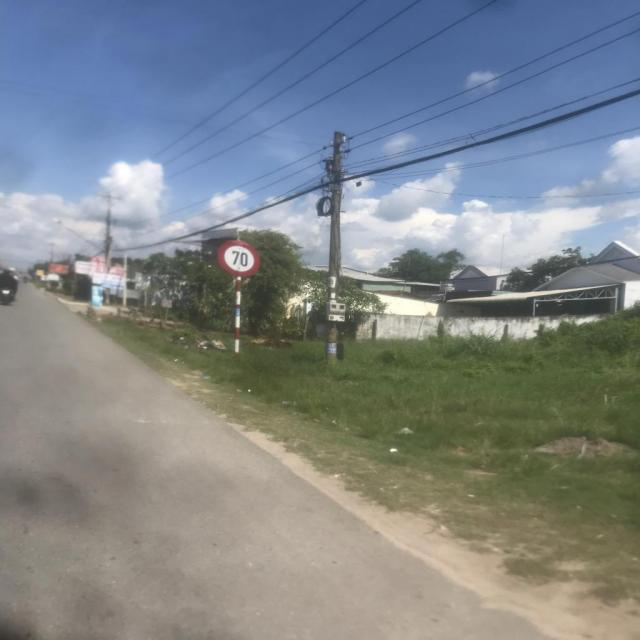khac: (216, 240, 262, 278)
